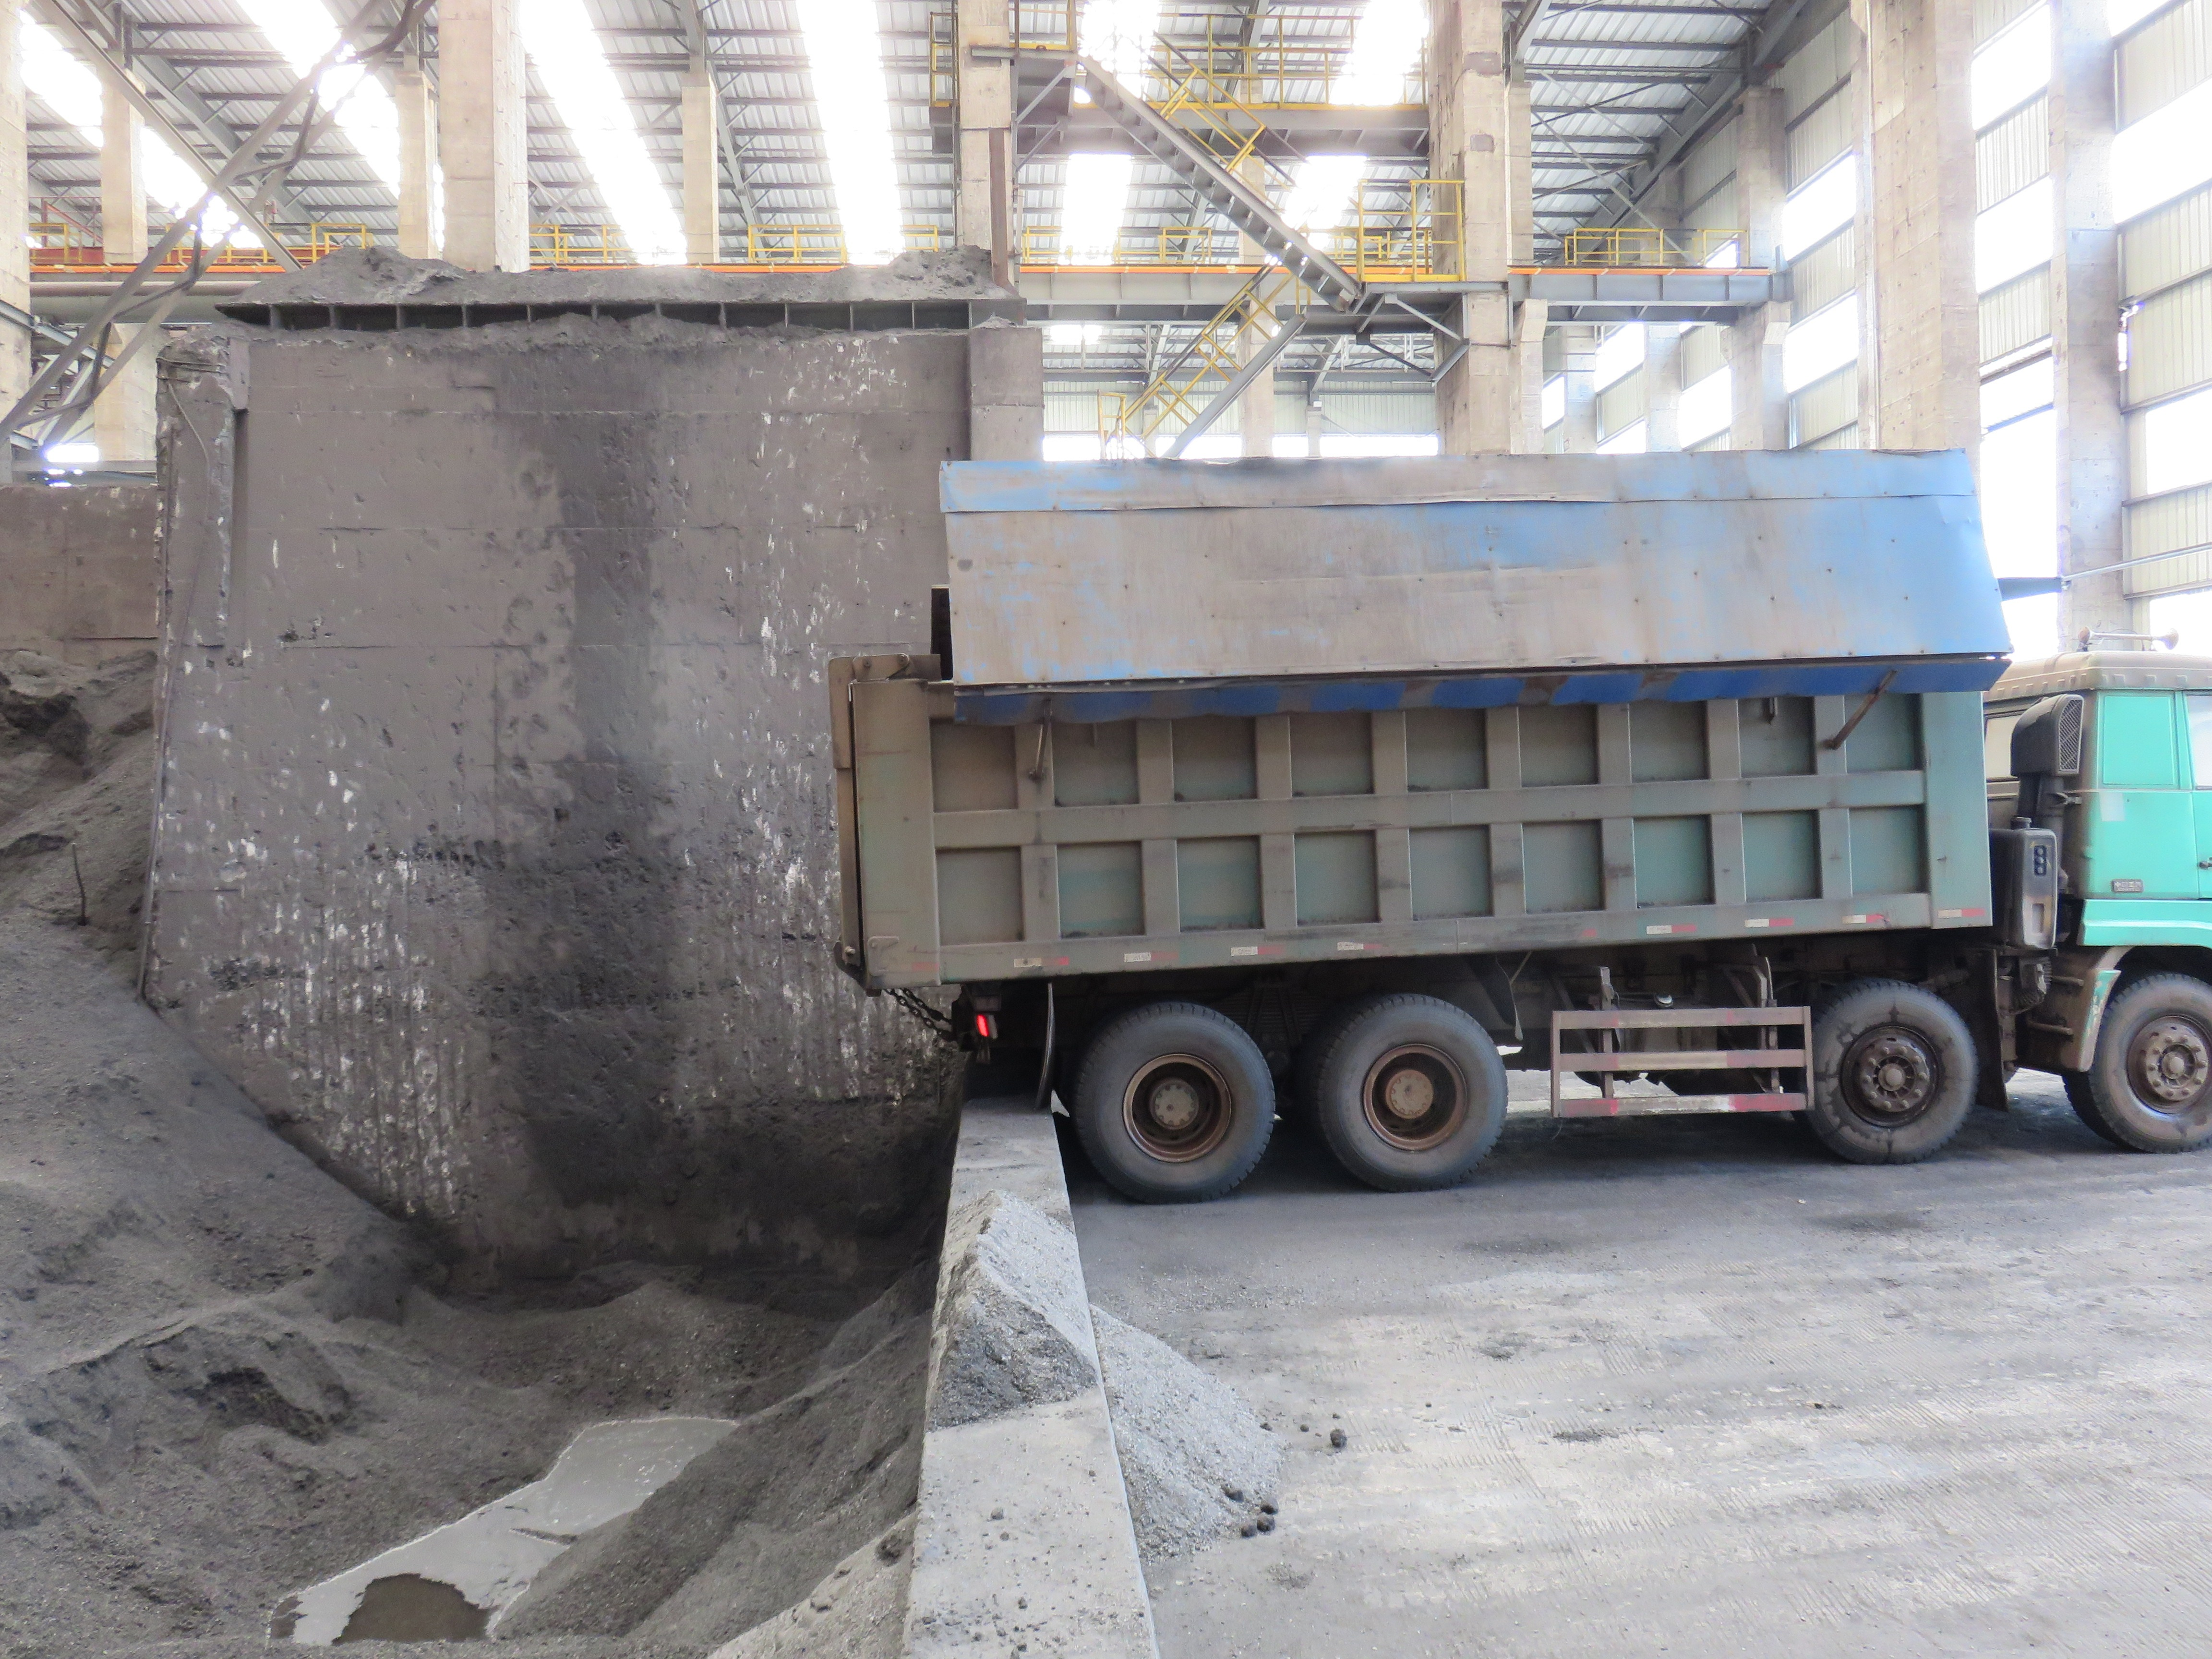truck: (789, 415, 2212, 1190)
